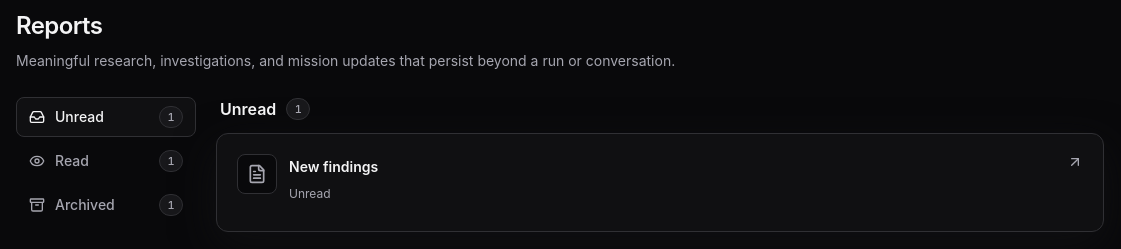
Test: Reports sections and lifecycle › shows one settings-style section at a time
Expected: the text "New findings" is shown, [289,158,378,175]
Expected: the text "Reviewed findings" is not shown
Click the button "Read 1".
click(106, 161)  # box [16,141,196,181]
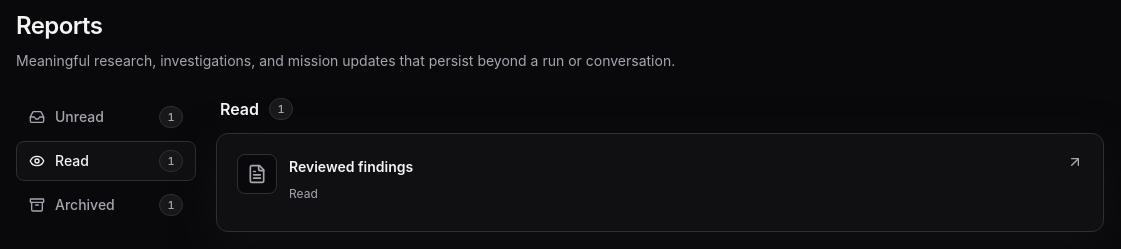
Result: the text "Reviewed findings" is shown at [289,158,413,175]
Result: the link "New findings" is gone
